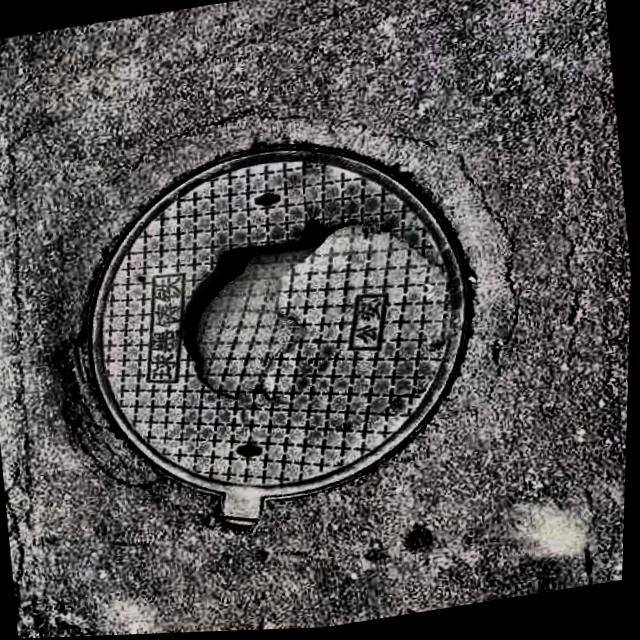open_manhole: (72, 143, 473, 527)
